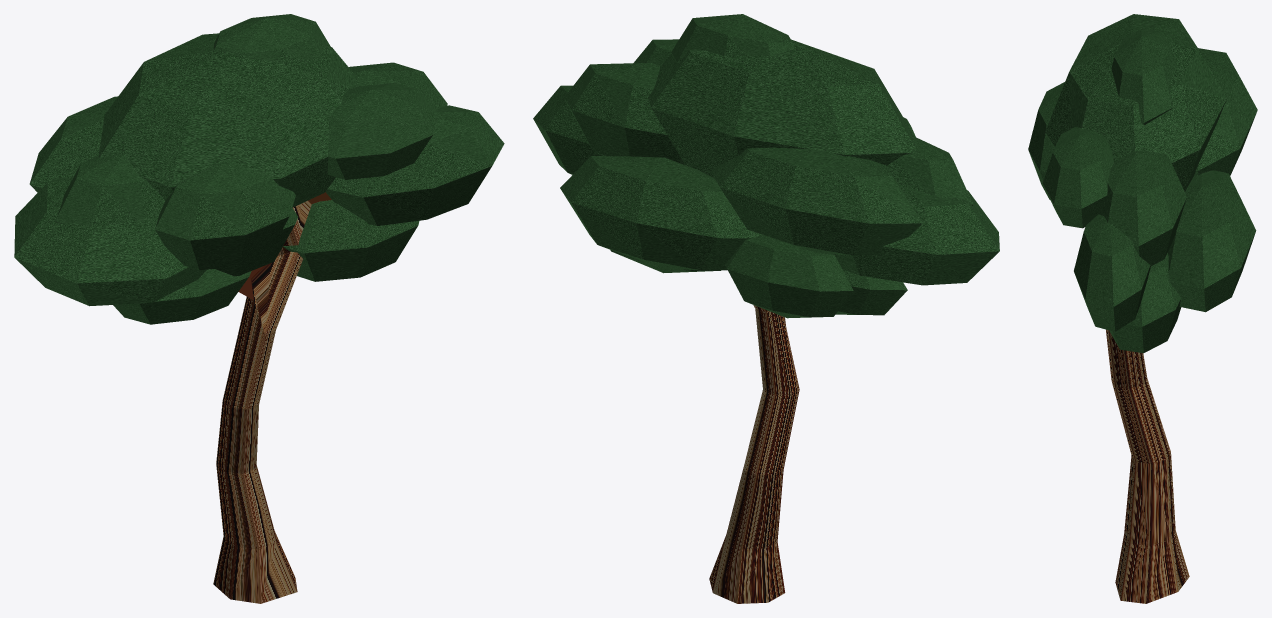
File: Tree_1.FBX
3 renders of one model, left to right at view 1: azimuth 30°, elevation 25°; view 2: azimuth 150°, elevation 25°; view 3: azimuth 270°, elevation 25°, orthographic. The views are drawn at different scales.
Parts seen in each view (by area): view 1: Cylinder001; view 2: Cylinder001; view 3: Cylinder001.
Boxes of the visible parts, x1,y1,x2,y2 form: Cylinder001: [14, 14, 504, 603]; Cylinder001: [533, 14, 999, 603]; Cylinder001: [1028, 14, 1257, 603].
Bounding box in the file's own units: 50.11 × 57.26 × 21.47.
